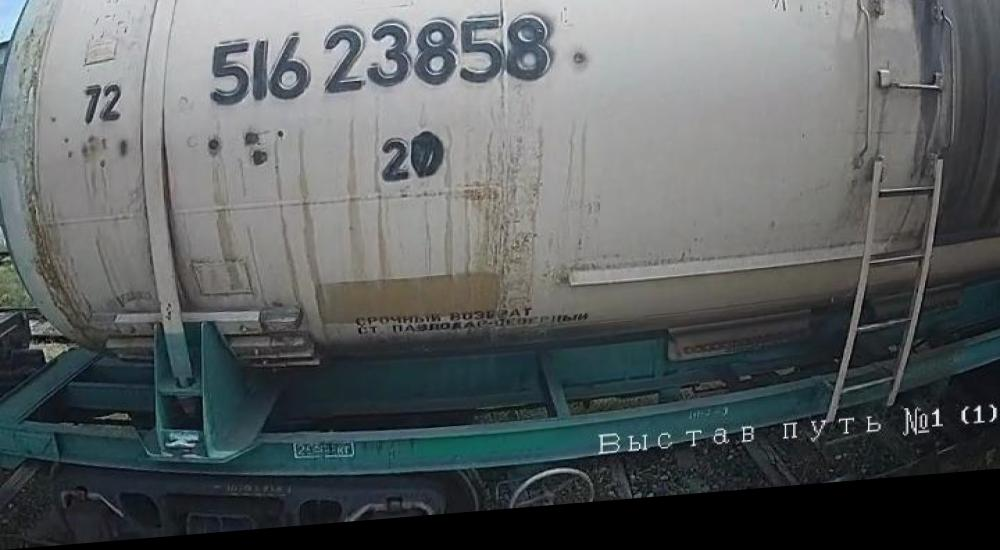Wagon-number: (198, 11, 562, 118)
